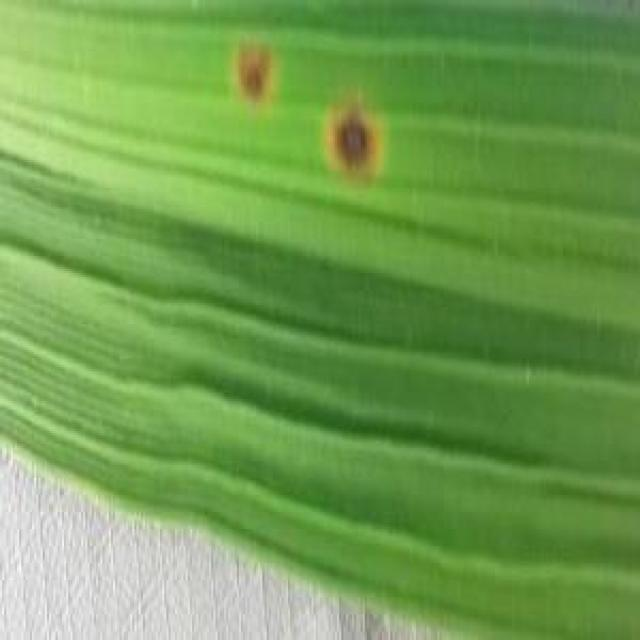brownspots: (320, 107, 380, 177), (228, 39, 282, 104)
